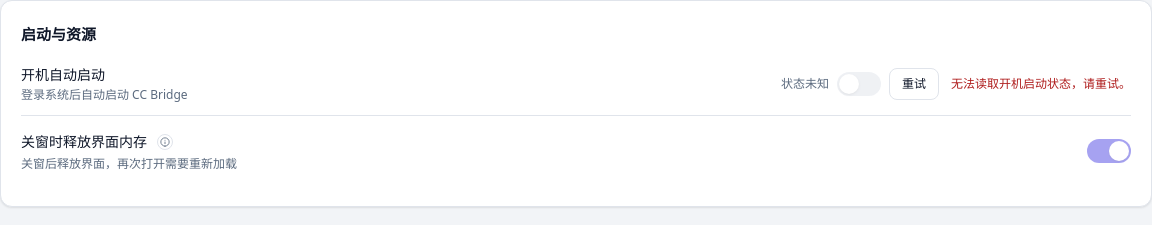
自启设置的未知与失败状态 › 读取失败显示未知并禁用开关，重试成功后才显示确认值
Expected: the element with id "app-startup" shows "状态未知", [781,74,829,92]
Expected: the switch named "开机自动启动" is disabled, [837,72,881,96]
Step 1. Click the button "重试" → (914, 84), box [889,68,939,100]
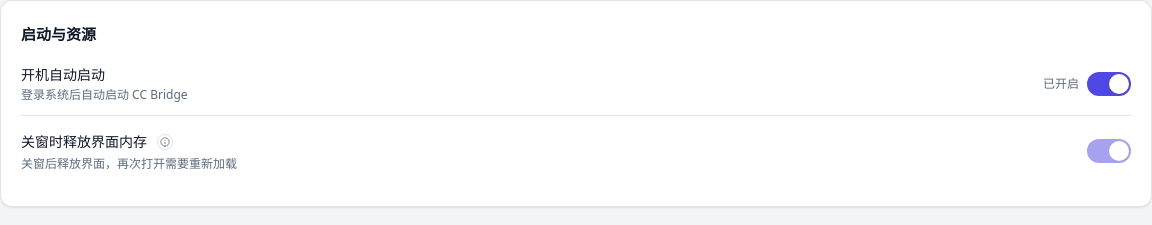
Expected: the switch named "开机自动启动" is enabled, [1087,72,1131,96]
Expected: the message with id "app-startup" no longer shows "无法读取"
